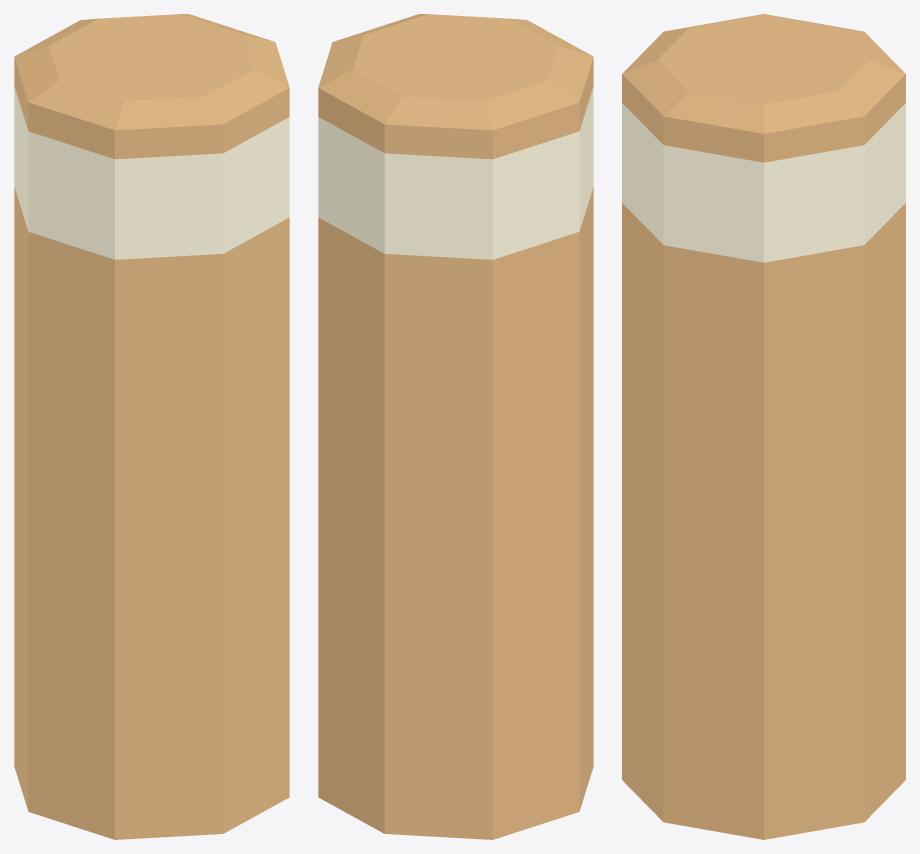
File: pole-a.glb
3 renders of one model, left to right at view 1: azimuth 30°, elevation 25°; view 2: azimuth 150°, elevation 25°; view 3: azimuth 270°, elevation 25°, orthographic.
Visible parts, largest first — view 1: pole-a; view 2: pole-a; view 3: pole-a.
Part boxes in pixels (left/top/right/bottom): pole-a: left=14, top=14, right=289, bottom=839; pole-a: left=318, top=14, right=593, bottom=839; pole-a: left=622, top=14, right=905, bottom=839.
Size of the model in its own units: 0.3512 by 0.9834 by 0.3512.
Materials: 1 (1 with a texture image).
